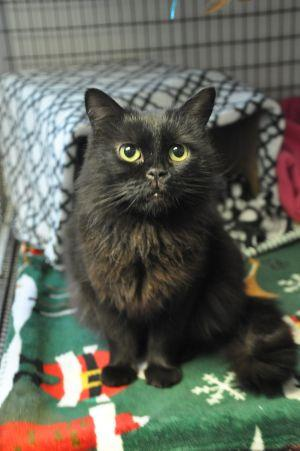persian: (75, 84, 227, 228)
